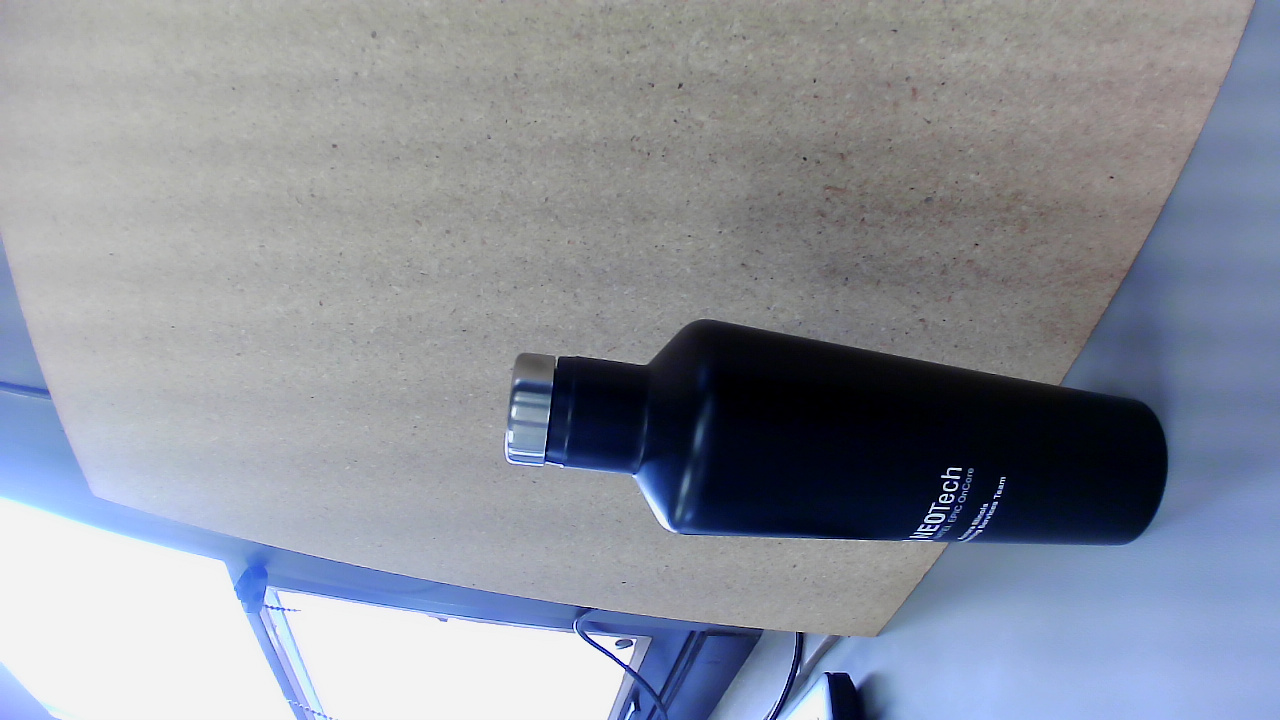neobottle: (481, 311, 1175, 567)
